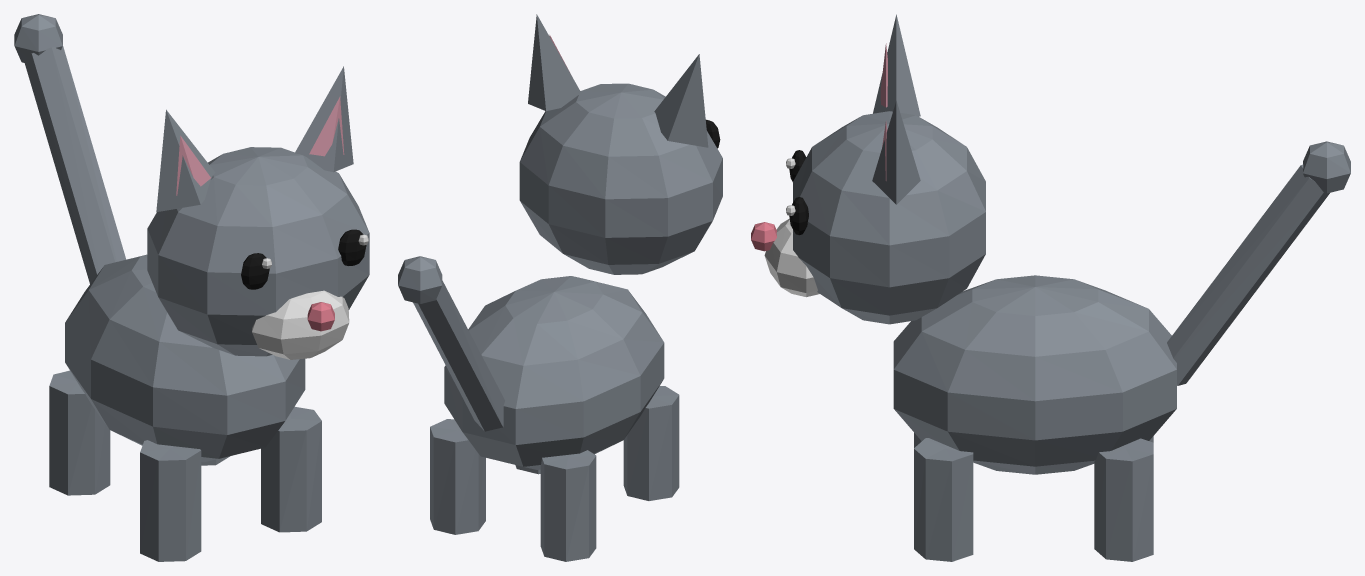
File: cat.glb
3 renders of one model, left to right at view 1: azimuth 30°, elevation 25°; view 2: azimuth 150°, elevation 25°; view 3: azimuth 270°, elevation 25°, orthographic. The views are drawn at different scales.
Visible parts, largest first — view 1: pet; view 2: pet; view 3: pet.
Part boxes in pixels (bbox=[...]): pet: bbox=[14, 14, 369, 561]; pet: bbox=[398, 14, 722, 561]; pet: bbox=[751, 14, 1350, 561].
Size of the model in its own units: 0.3315 by 0.7353 by 0.8641.
